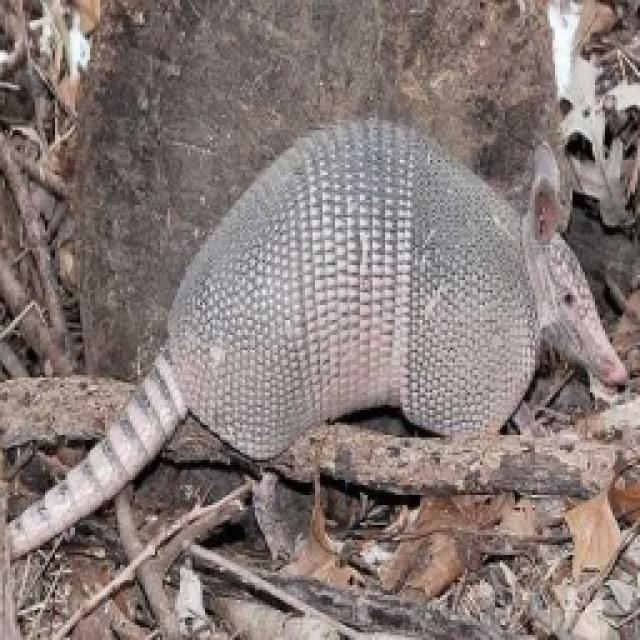not_pig: (0, 112, 630, 578)
